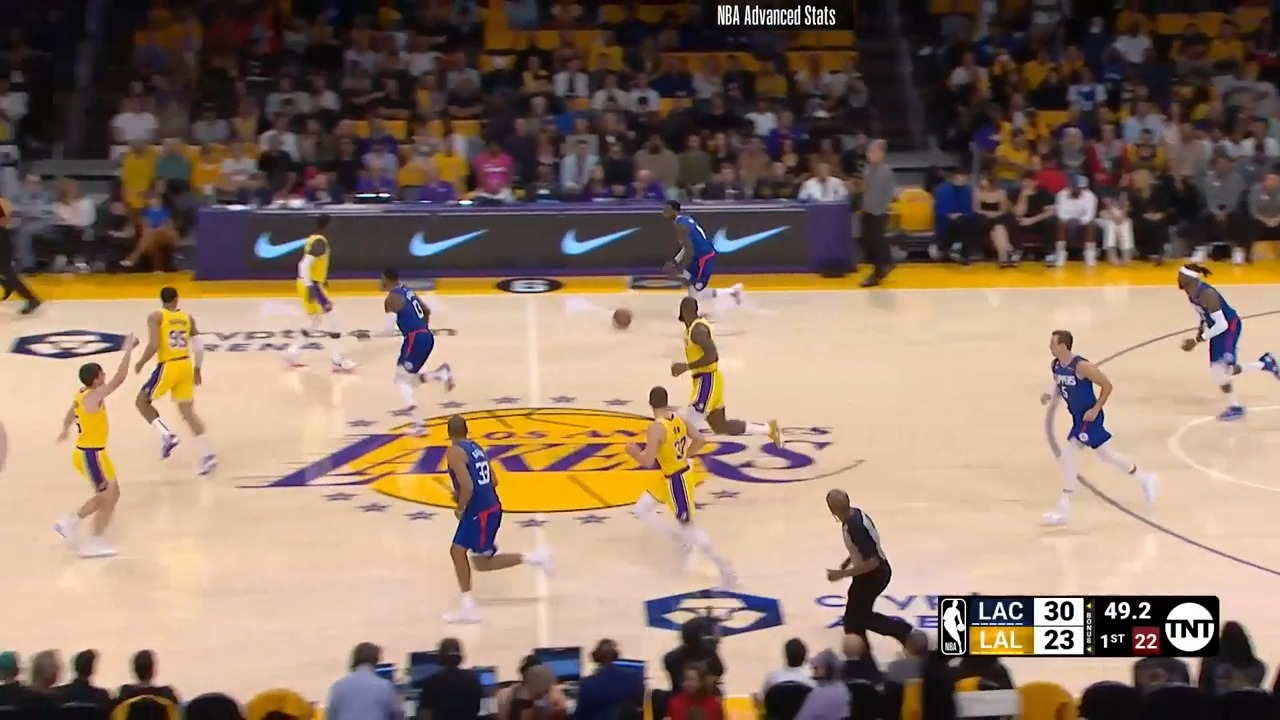player: (413, 416, 554, 633), (1034, 326, 1158, 529), (112, 277, 225, 479), (628, 380, 738, 581), (664, 293, 783, 468), (51, 359, 146, 567), (1171, 260, 1280, 423), (258, 217, 360, 378), (372, 263, 462, 416), (656, 196, 749, 319)
referee: (819, 482, 939, 652), (1, 152, 53, 321)
